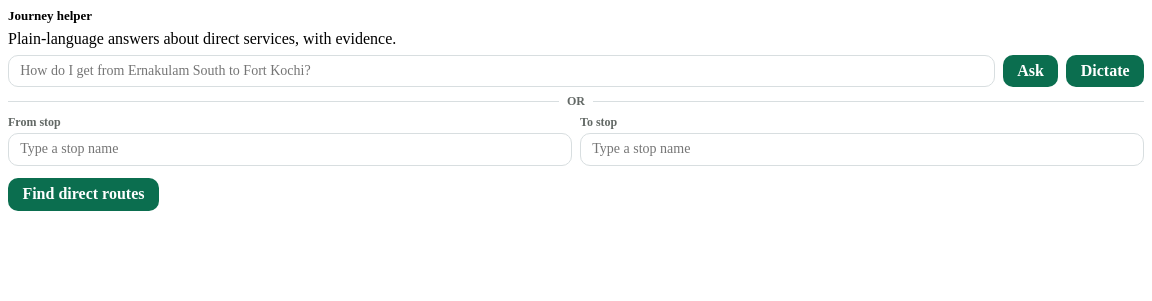
JourneyPanel › keeps only one result active at a time
This screenshot has width=1152, height=301.
Type "Ernakulam" into the field labelled "From stop".
click(290, 149); type("Ernakulam")  # box [8,133,572,166]
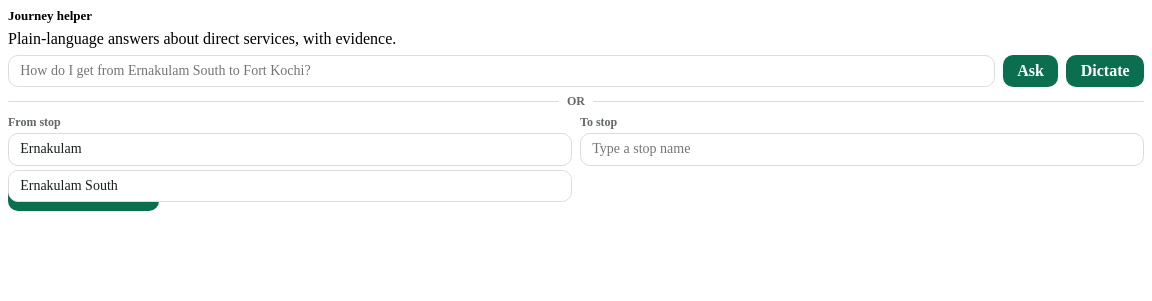
Click the button "Ernakulam South".
click(69, 185)  # box [9,170,571,201]
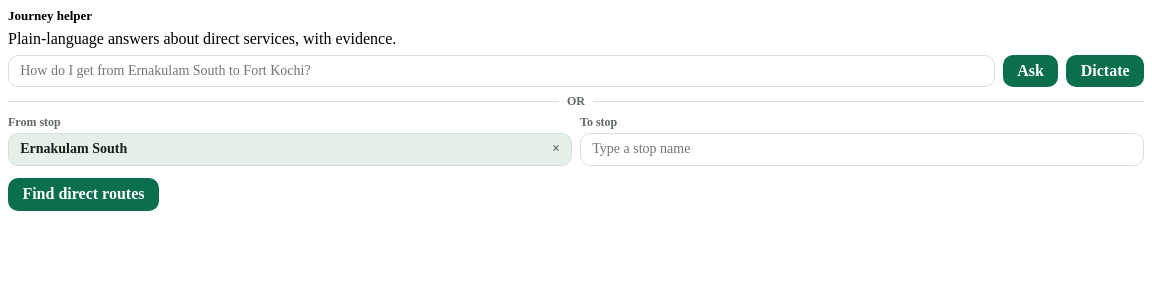
Type "Ernakulam" into the field labelled "To stop".
click(862, 149); type("Ernakulam")  # box [580,133,1144,166]
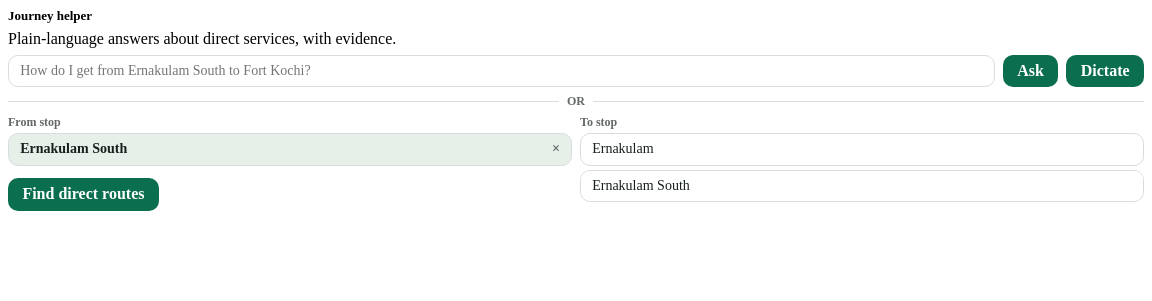
Click the button "Ernakulam South".
click(641, 185)  # box [581,170,1143,201]
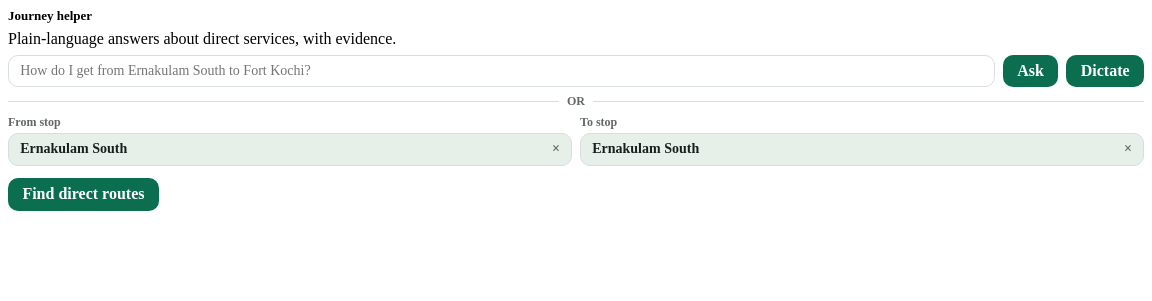
Click the button "Find direct routes".
click(83, 194)  # box [8,178,159,211]
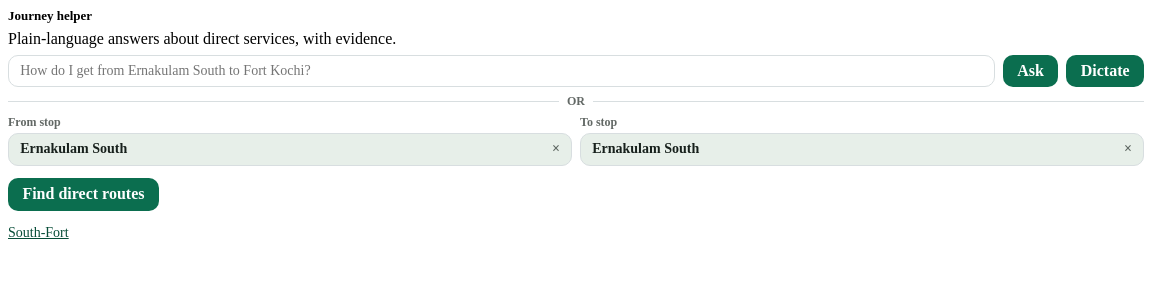
Now the link "South-Fort" is shown, box [8,225,69,240]
Type "How do I get there?" into the field named "your journey question".
click(501, 71); type("How do I get there?")  # box [8,55,995,87]
Click the button "Ask".
click(1031, 71)  # box [1003,55,1058,87]
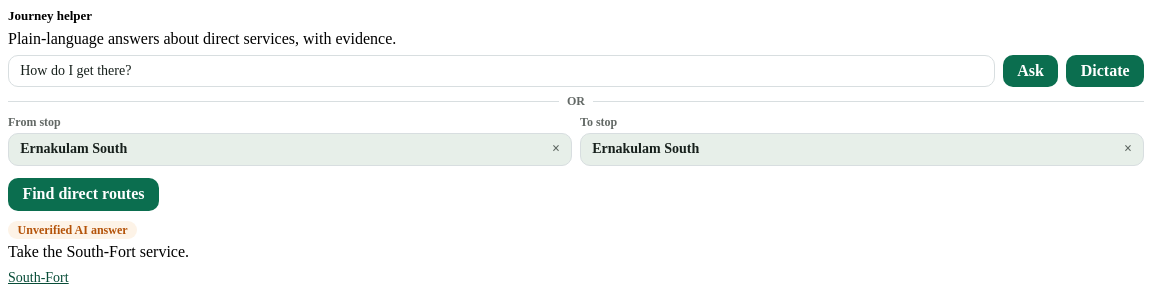
Now the number of links "South-Fort" is 1, box [8,270,69,285]
Now the element "South-Fort" is shown, box [8,221,189,285]
Now the text "Take the South-Fort service." is shown, box [8,243,189,260]
